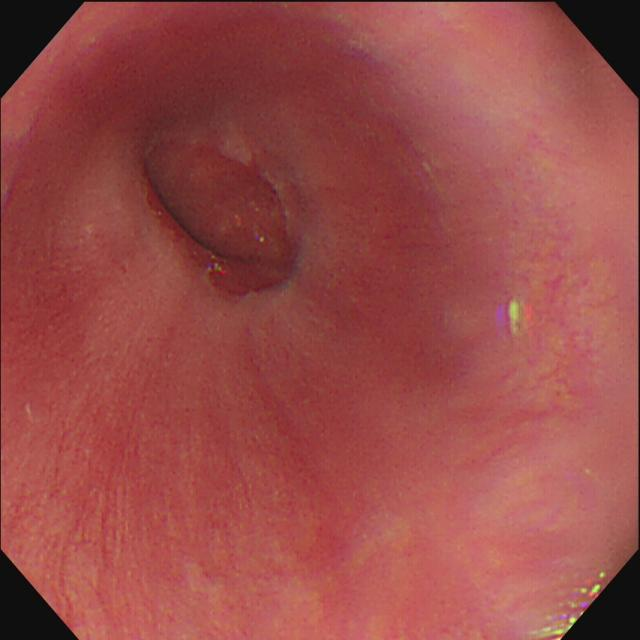I: (130, 142, 305, 321)
U: (497, 300, 536, 338)
